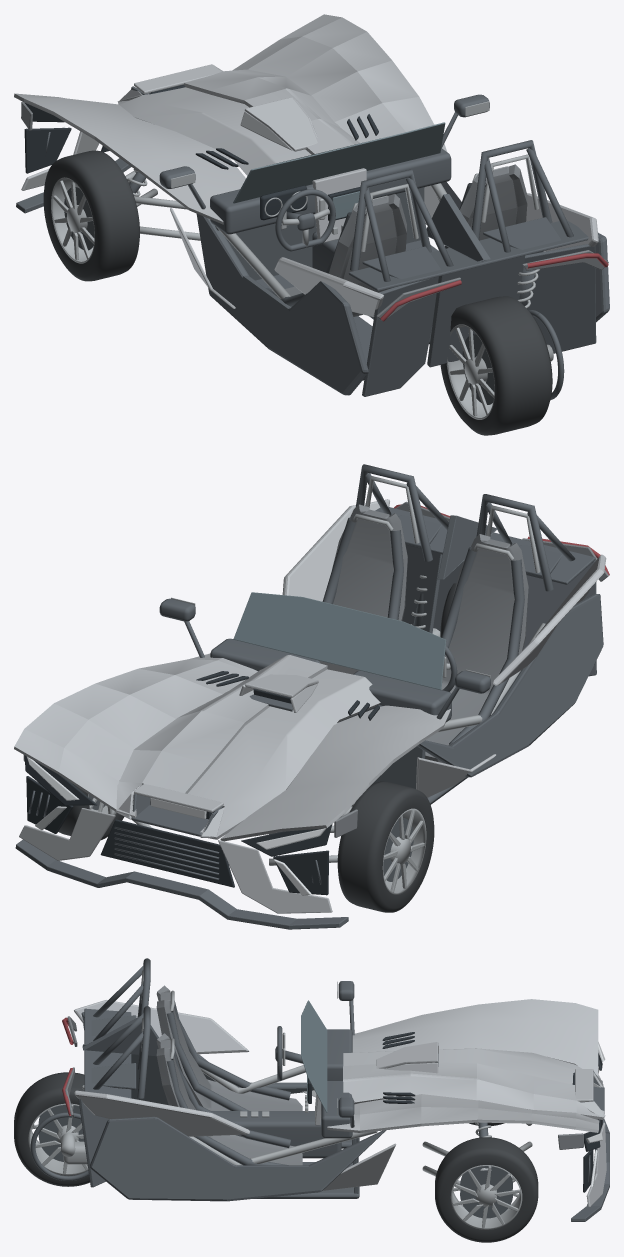
The model's file is slingshot.glb.
The picture shows the model from 3 angles, top to bottom: view 1: azimuth 30°, elevation 25°; view 2: azimuth 150°, elevation 25°; view 3: azimuth 270°, elevation 25°; orthographic projection. The views are drawn at different scales.
Parts seen in each view (by area): view 1: sculpted_front_fender_right, sculpted_sill_left, rear_tire, sculpted_front_fender_left, front_left_tire, hood_central_left, wind_deflector, rear_bucket_undertray_left, rear_bucket_undertray_right, hood_central_right, rear_center_bulkhead, seat_driver (+35 smaller); view 2: sculpted_front_fender_right, wind_deflector, sculpted_front_fender_left, hood_central_left, sculpted_sill_left, hood_central_right, seat_driver, front_left_tire, seat_passenger, front_splitter_blade, center_grille, nose_cheek_left (+29 smaller); view 3: sculpted_sill_right, sculpted_front_fender_left, hood_central_right, sculpted_front_fender_right, front_right_tire, tail_shoulder_right, hood_central_left, rear_tire, seat_driver, center_tunnel, tail_shoulder_left, seat_passenger (+33 smaller).
Part boxes in pixels (left/top/right/bottom): sculpted_front_fender_right: left=232, top=14, right=446, bottom=151; sculpted_sill_left: left=196, top=214, right=368, bottom=395; rear_tire: left=440, top=296, right=552, bottom=435; sculpted_front_fender_left: left=14, top=93, right=245, bottom=224; front_left_tire: left=43, top=150, right=139, bottom=281; hood_central_left: left=117, top=87, right=311, bottom=175; wind_deflector: left=233, top=122, right=445, bottom=203; rear_bucket_undertray_left: left=362, top=276, right=438, bottom=396; rear_bucket_undertray_right: left=524, top=244, right=596, bottom=353; hood_central_right: left=184, top=69, right=359, bottom=154; rear_center_bulkhead: left=427, top=255, right=525, bottom=367; seat_driver: left=285, top=194, right=406, bottom=316; sculpted_front_fender_right: left=14, top=653, right=257, bottom=812; wind_deflector: left=233, top=592, right=446, bottom=690; sculpted_front_fender_left: left=220, top=705, right=450, bottom=841; hood_central_left: left=187, top=669, right=380, bottom=839; sculpted_sill_left: left=417, top=594, right=603, bottom=777; hood_central_right: left=116, top=655, right=327, bottom=817; seat_driver: left=425, top=534, right=528, bottom=763; front_left_tire: left=337, top=781, right=434, bottom=912; seat_passenger: left=332, top=504, right=407, bottom=620; front_splitter_blade: left=15, top=839, right=348, bottom=929; center_grille: left=100, top=819, right=234, bottom=887; nose_cheek_left: left=218, top=840, right=332, bottom=913; sculpted_sill_right: left=90, top=1116, right=385, bottom=1201; sculpted_front_fender_left: left=352, top=999, right=598, bottom=1076; hood_central_right: left=343, top=1062, right=604, bottom=1119; sculpted_front_fender_right: left=327, top=1094, right=599, bottom=1132; front_right_tire: left=435, top=1137, right=538, bottom=1242; tail_shoulder_right: left=74, top=1090, right=249, bottom=1136; hood_central_left: left=343, top=1048, right=602, bottom=1087; rear_tire: left=14, top=1072, right=89, bottom=1186; seat_driver: left=156, top=985, right=302, bottom=1110; center_tunnel: left=211, top=1111, right=341, bottom=1158; tail_shoulder_left: left=74, top=1000, right=249, bottom=1054; seat_passenger: left=156, top=1033, right=302, bottom=1165.
Bounding box in the file's own units: 2 × 1.31 × 3.8.
